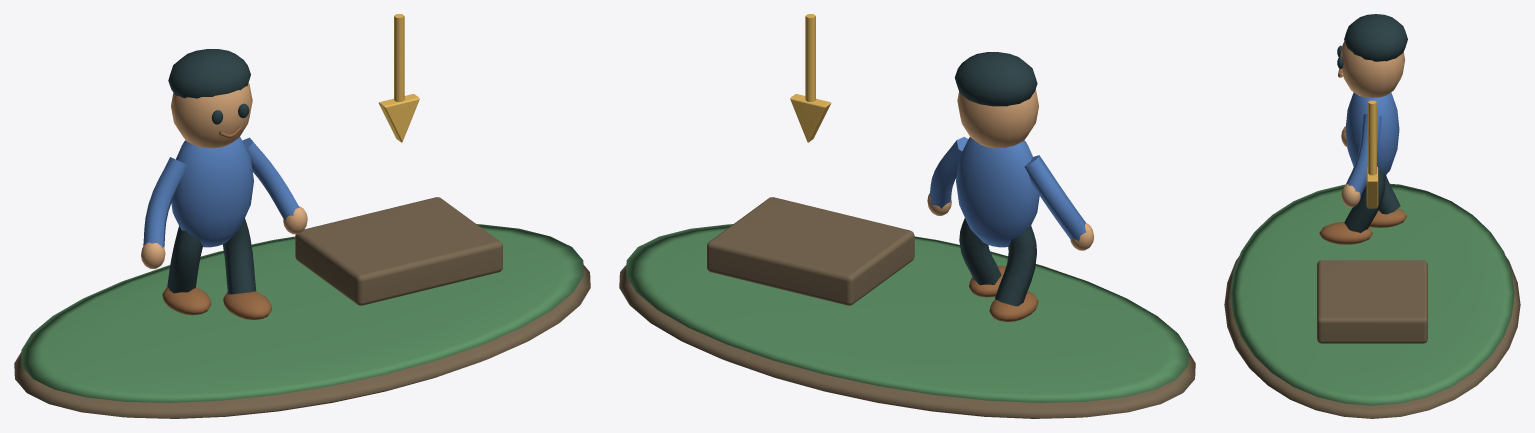
Rendered from low-person.glb.
3 renders of one model, left to right at view 1: azimuth 30°, elevation 25°; view 2: azimuth 150°, elevation 25°; view 3: azimuth 270°, elevation 25°, orthographic. The views are drawn at different scales.
Visible parts, largest first — view 1: low-person_surface_01, low-person_surface_00, low-person_surface_05, low-person_surface_03, low-person_surface_02, low-person_surface_04, low-person_surface_06; view 2: low-person_surface_01, low-person_surface_00, low-person_surface_05, low-person_surface_03, low-person_surface_02, low-person_surface_06, low-person_surface_04; view 3: low-person_surface_01, low-person_surface_00, low-person_surface_03, low-person_surface_05, low-person_surface_02, low-person_surface_04, low-person_surface_06.
Part boxes in pixels (x1,y1,x2,y2): low-person_surface_01: (21,224,583,402); low-person_surface_00: (14,197,590,418); low-person_surface_05: (143,137,299,247); low-person_surface_03: (167,49,256,294); low-person_surface_02: (141,83,307,268); low-person_surface_04: (162,126,271,319); low-person_surface_06: (378,14,419,142); low-person_surface_01: (626,224,1188,402); low-person_surface_00: (619,197,1195,418); low-person_surface_05: (929,137,1086,247); low-person_surface_03: (954,52,1037,306); low-person_surface_02: (927,89,1093,250); low-person_surface_06: (790,14,831,142); low-person_surface_04: (969,265,1038,321); low-person_surface_01: (1230,183,1514,405); low-person_surface_00: (1224,257,1520,418); low-person_surface_03: (1337,14,1407,232); low-person_surface_05: (1345,92,1399,195); low-person_surface_02: (1340,41,1404,207); low-person_surface_04: (1319,69,1406,244); low-person_surface_06: (1366,100,1378,208).
Bounding box in the file's own units: 4.56 × 2.44 × 2.5.
